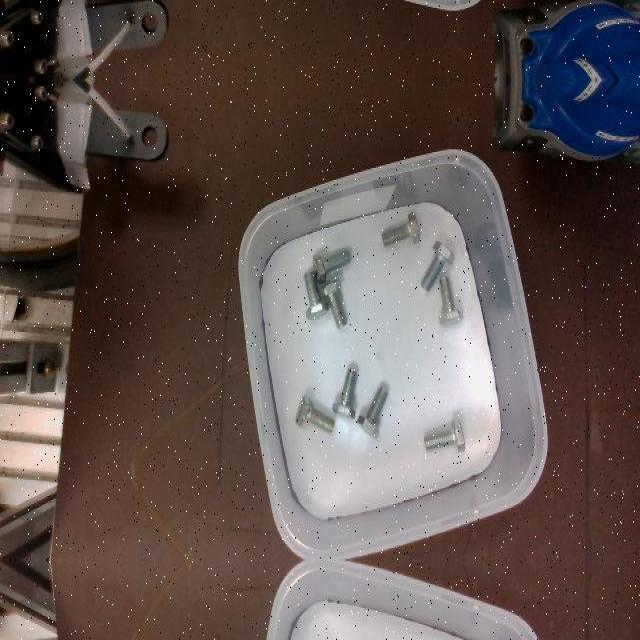screw: (420, 240, 455, 290), (357, 386, 388, 438), (296, 394, 335, 432), (423, 418, 465, 452), (381, 212, 420, 248), (319, 278, 346, 328), (331, 368, 357, 418), (302, 270, 328, 320), (312, 249, 350, 283), (438, 275, 463, 325)
